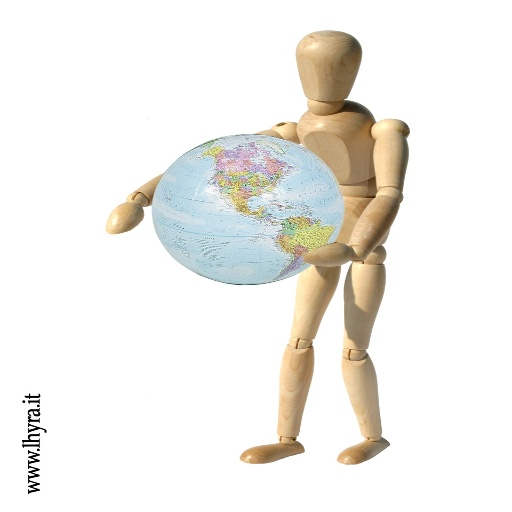hand: (306, 226, 366, 265), (106, 200, 144, 234)
